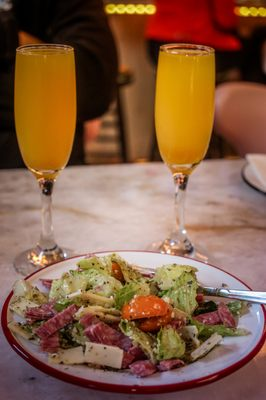curry: (2, 156, 266, 399)
sandwich: (12, 44, 77, 275), (149, 44, 216, 263)
